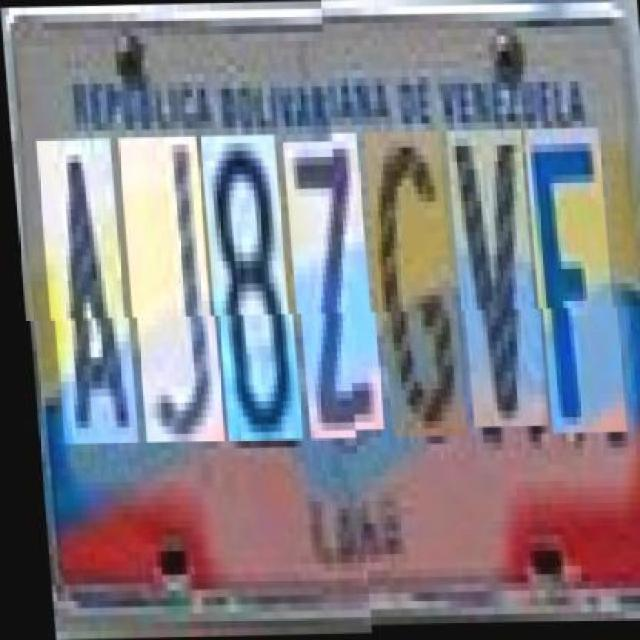8: (200, 136, 294, 442)
a: (37, 138, 131, 444)
f: (527, 138, 621, 444)
g: (367, 141, 461, 447)
j: (118, 137, 217, 443)
v: (448, 138, 542, 437)
z: (284, 142, 378, 440)
